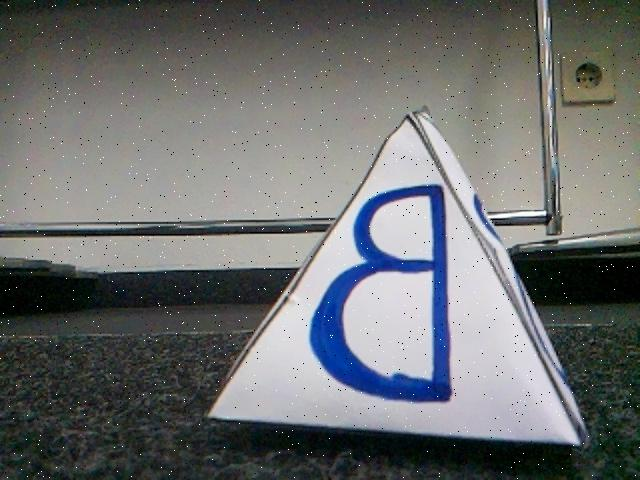B: (205, 106, 578, 433)
